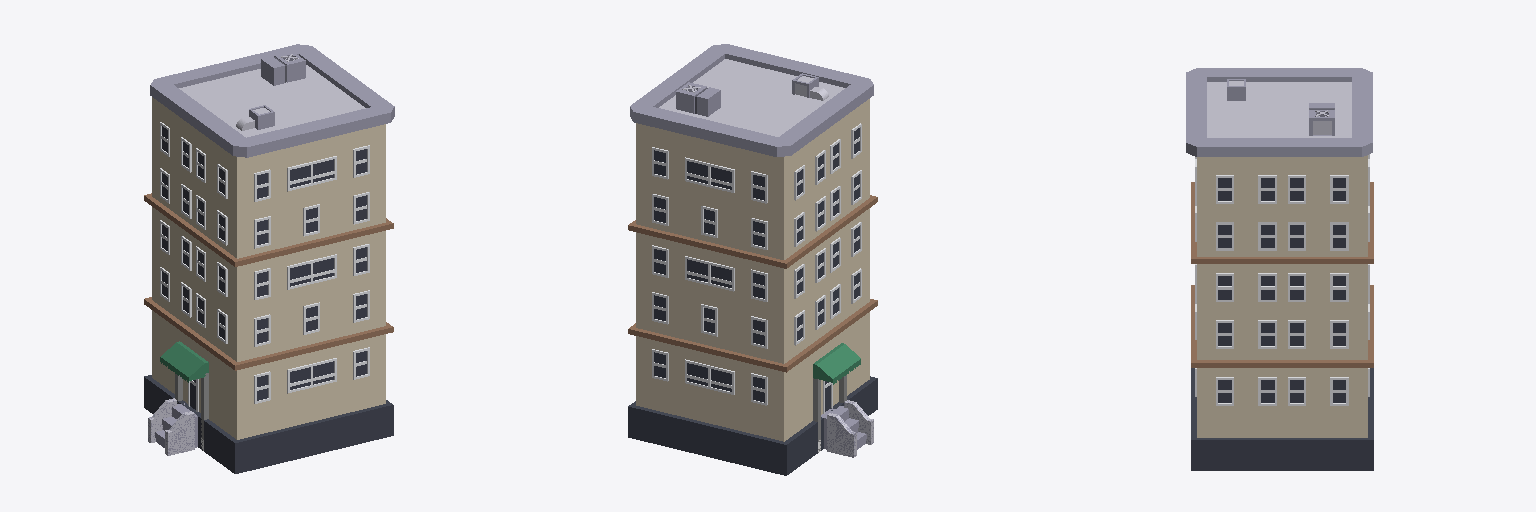
The model's file is house3.obj.
3 views of the same model, side by side, from view 1: azimuth 30°, elevation 25°; view 2: azimuth 150°, elevation 25°; view 3: azimuth 270°, elevation 25° (orthographic).
Size of the model in its own units: 3.92 by 6.56 by 3.28.